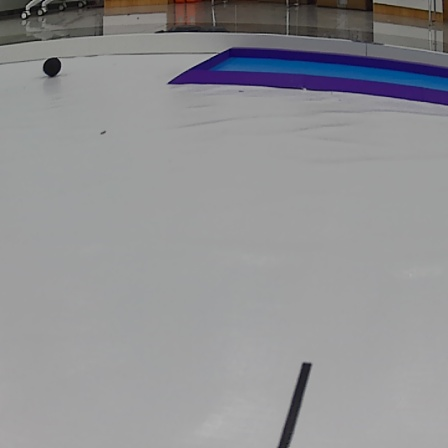black: (43, 58, 62, 79)
blue_aim: (160, 46, 448, 108)
